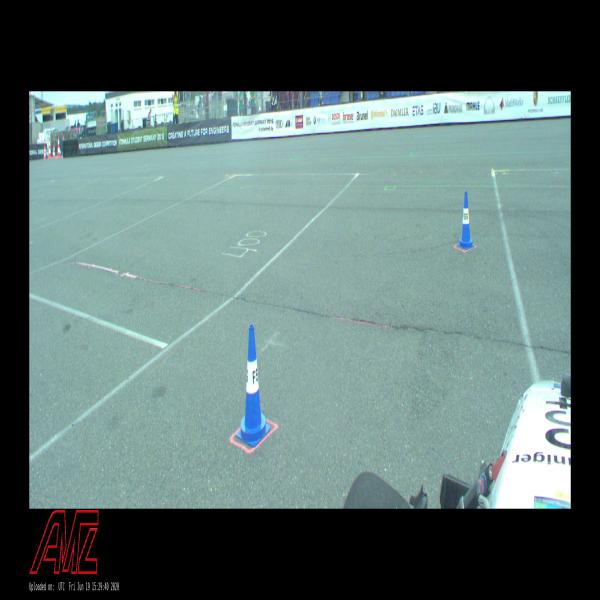blue_cone: (236, 324, 270, 449), (457, 192, 475, 251)
large_orange_cone: (48, 139, 52, 158), (57, 136, 60, 158), (43, 145, 46, 159), (53, 144, 55, 158)
